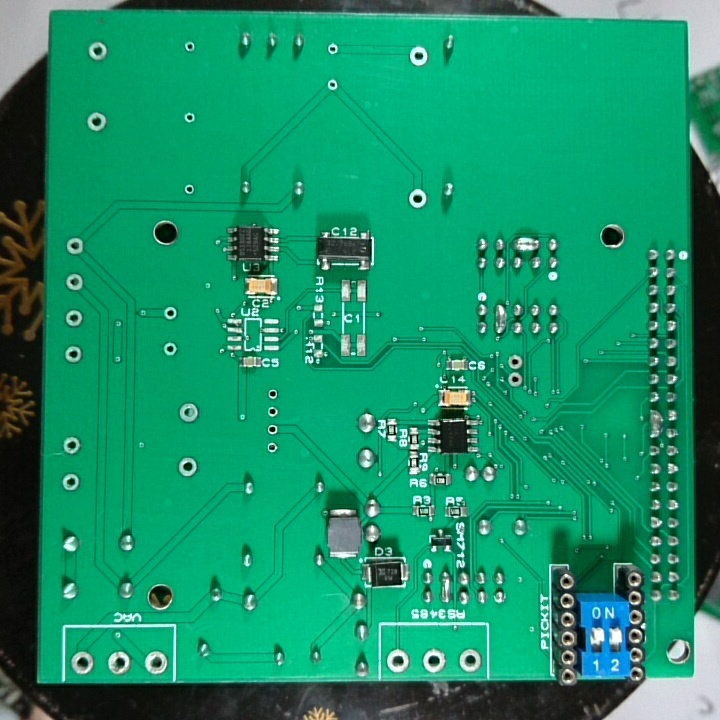F: (419, 645, 447, 675), (142, 649, 169, 678), (68, 649, 97, 675), (456, 646, 482, 675), (385, 645, 410, 675), (105, 648, 131, 676), (85, 39, 111, 66), (176, 400, 201, 425), (85, 110, 109, 136), (176, 455, 200, 481), (58, 435, 85, 457), (62, 270, 86, 294), (64, 235, 87, 260), (59, 470, 82, 495), (407, 44, 430, 68), (406, 188, 429, 211), (62, 306, 84, 330), (62, 345, 84, 365), (504, 370, 525, 390), (161, 303, 180, 325), (506, 351, 525, 372), (325, 40, 342, 60), (264, 438, 281, 458), (162, 339, 179, 358), (181, 110, 199, 127), (265, 383, 280, 403), (182, 38, 199, 55), (179, 181, 197, 197), (264, 421, 279, 438), (265, 403, 280, 420), (325, 75, 339, 93)
P: (438, 570, 454, 606), (493, 300, 508, 338), (647, 406, 664, 439), (514, 235, 540, 255)
